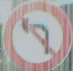Don't turn left: (4, 3, 69, 67)
